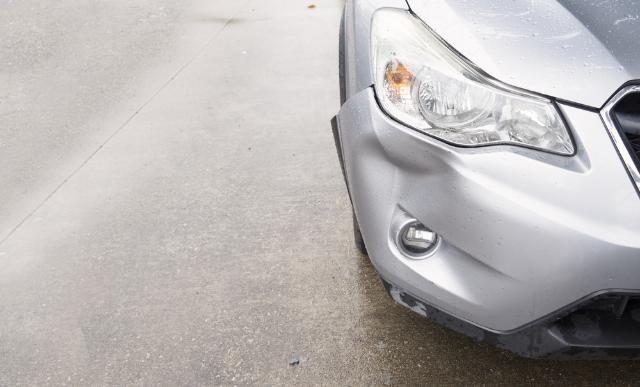dent: (359, 134, 454, 208)
scratch: (382, 275, 431, 319)
